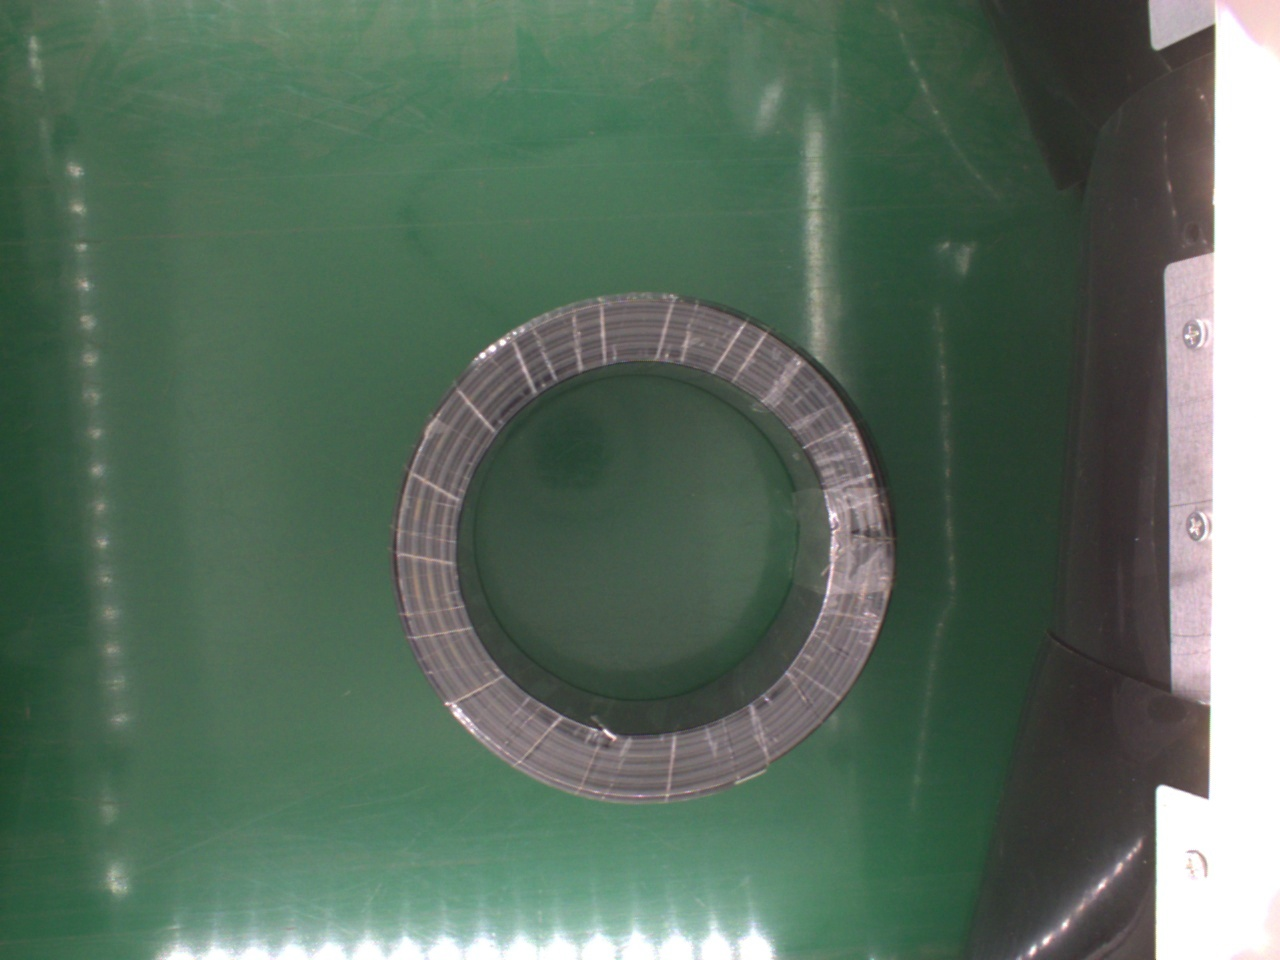black: (391, 297, 892, 805)
